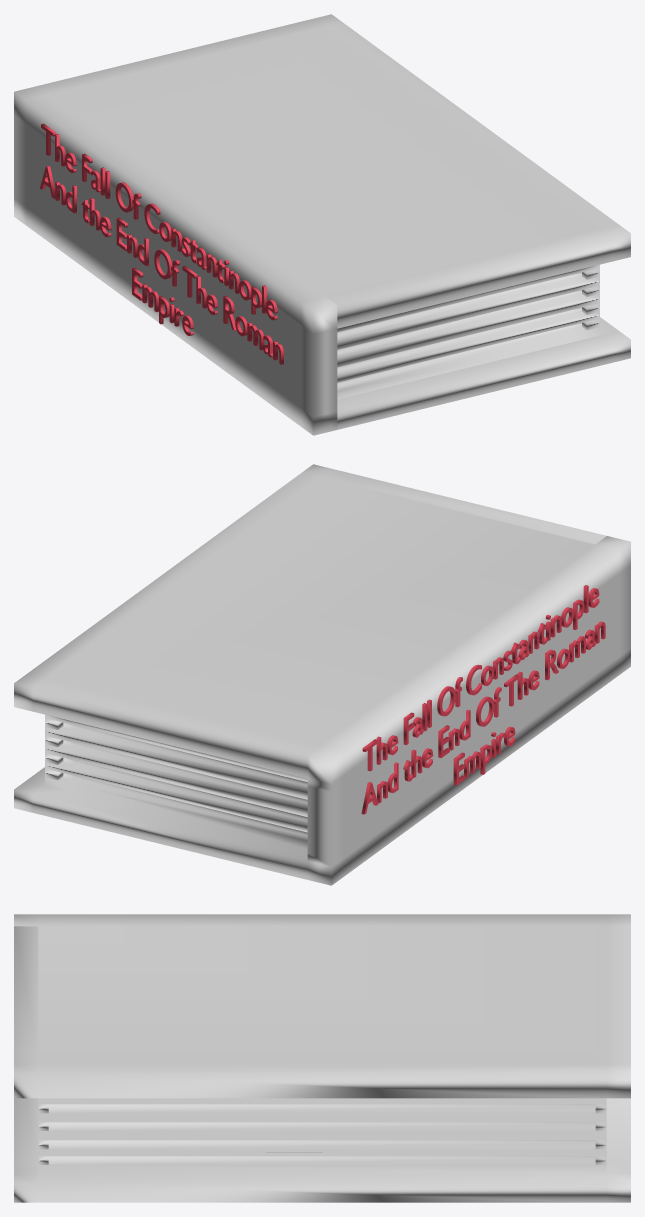
Rendered from BookPropConstantinople.fbx.
3 views of the same model, one above another, from view 1: azimuth 30°, elevation 25°; view 2: azimuth 150°, elevation 25°; view 3: azimuth 270°, elevation 25° (orthographic). The views are drawn at different scales.
Parts seen in each view (by area): view 1: Cube, Text; view 2: Cube, Text; view 3: Cube.
Part boxes in pixels (left/top/right/bottom): Cube: left=14, top=14, right=630, bottom=435; Text: left=40, top=123, right=283, bottom=364; Cube: left=14, top=464, right=630, bottom=885; Text: left=361, top=585, right=605, bottom=814; Cube: left=14, top=914, right=630, bottom=1202.
Size of the model in its own units: 53.79 by 20 by 86.85.
